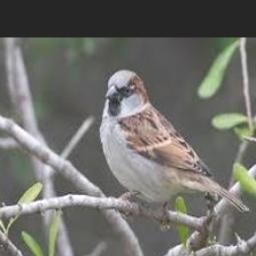Sparrow: (99, 69, 249, 214)
